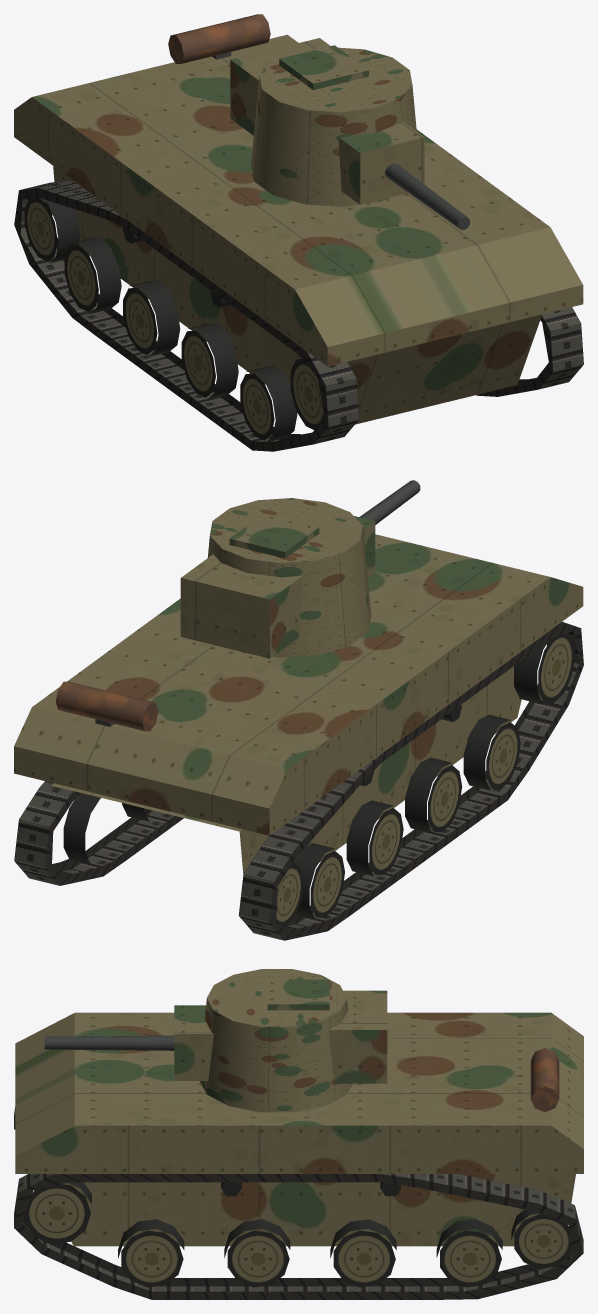
Rendered from armor-1.glb.
3 views of the same model, one above another, from view 1: azimuth 30°, elevation 25°; view 2: azimuth 150°, elevation 25°; view 3: azimuth 270°, elevation 25° (orthographic). The views are drawn at different scales.
Visible parts, largest first — view 1: hull, turret, tracks_right, gun, galet_right_1, galet_right_2, galet_right_3, galet_right_4, tracks_left, roue_folle_right, hatch, barbotin_right; view 2: hull, turret, tracks_right, tracks_left, galet_right_2, galet_right_4, galet_right_3, barbotin_right, galet_right_1, hatch, gun, galet_left_1 (+1 smaller); view 3: hull, turret, tracks_left, gun, galet_left_4, galet_left_2, galet_left_3, galet_left_1, barbotin_left, roue_folle_left, hatch.
Boxes of the visible parts, x1,y1,x2,y2 form: hull: (14, 14, 583, 424); turret: (230, 38, 416, 206); tracks_right: (14, 180, 359, 451); gun: (338, 121, 469, 229); galet_right_1: (64, 237, 121, 313); galet_right_2: (123, 280, 180, 356); galet_right_3: (181, 323, 238, 399); galet_right_4: (240, 366, 297, 441); tracks_left: (476, 307, 583, 396); roue_folle_right: (24, 198, 80, 263); hatch: (279, 45, 368, 90); barbotin_right: (290, 356, 324, 429); hull: (14, 534, 583, 873); turret: (180, 498, 371, 658); tracks_right: (238, 621, 583, 940); tracks_left: (14, 781, 183, 885); galet_right_2: (346, 800, 403, 876); galet_right_4: (463, 714, 520, 790); galet_right_3: (405, 757, 462, 833); barbotin_right: (514, 633, 575, 704); galet_right_1: (294, 843, 344, 918); hatch: (229, 513, 319, 558); gun: (354, 480, 420, 577); galet_left_1: (63, 793, 101, 864); hull: (15, 1012, 583, 1246); turret: (199, 969, 387, 1112); tracks_left: (14, 1174, 583, 1299); gun: (44, 1005, 213, 1080); galet_left_4: (118, 1219, 184, 1287); galet_left_2: (330, 1219, 396, 1287); galet_left_3: (224, 1219, 290, 1287); galet_left_1: (436, 1219, 502, 1287); barbotin_left: (24, 1182, 91, 1243); roue_folle_left: (511, 1209, 570, 1268); hatch: (267, 979, 329, 1010).
Bounding box in the file's own units: 2.06 × 2.23 × 4.39.
5 materials, 5 textured.
